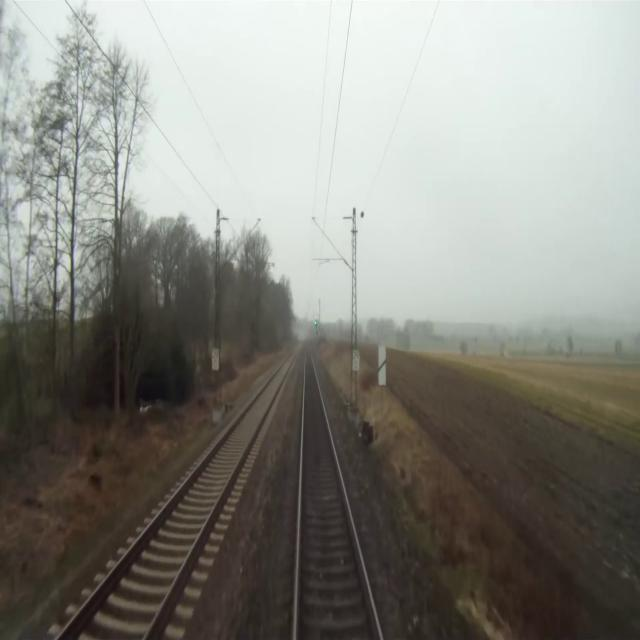rail-track: (59, 351, 295, 639), (297, 348, 379, 639)
